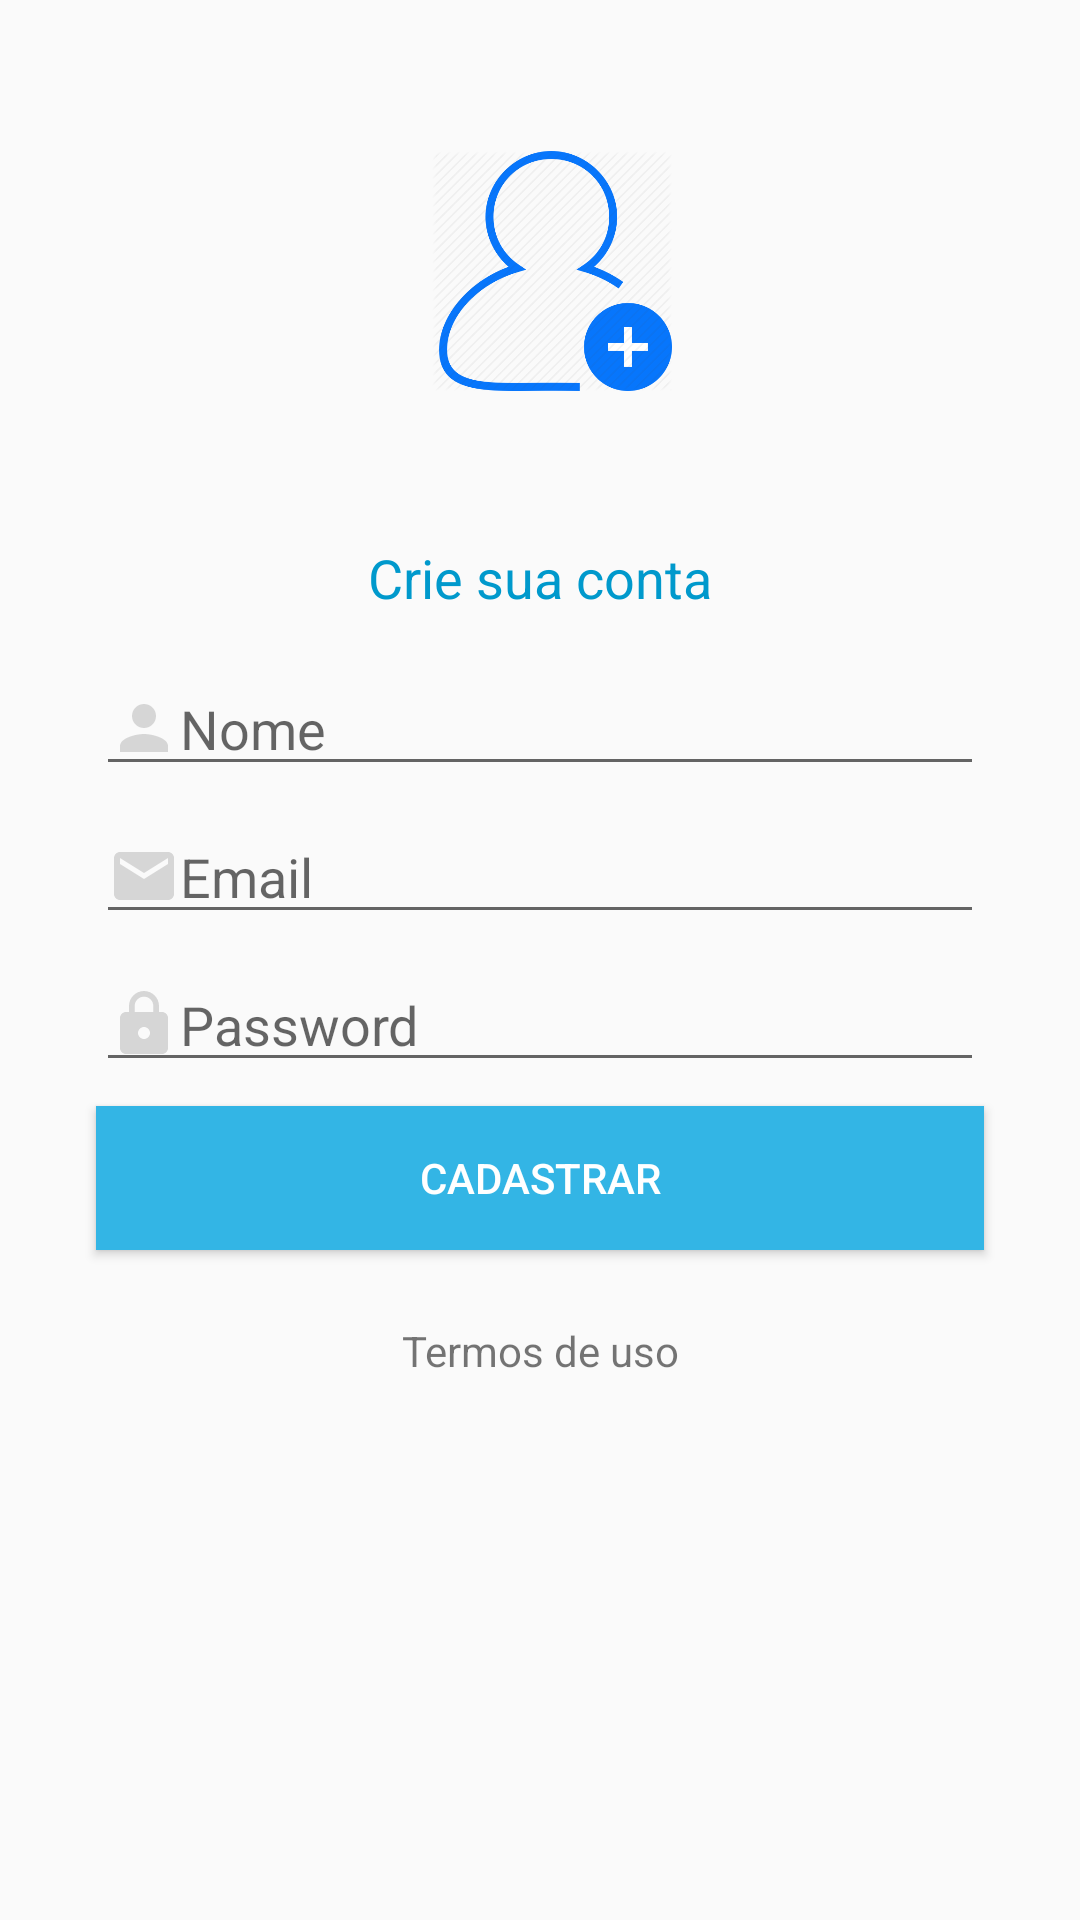

Named icons in this screenshot (1080w x 1920h) and their bounding boxes, (x1, y1, x2, y2):
adduser: (439, 151, 672, 391)
